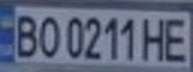0: (63, 12, 84, 60)
1: (118, 14, 142, 61), (103, 14, 121, 61)
2: (81, 12, 106, 61)
B: (9, 10, 42, 58)
E: (160, 14, 193, 62)
H: (139, 14, 172, 62)
O: (33, 11, 63, 58)
